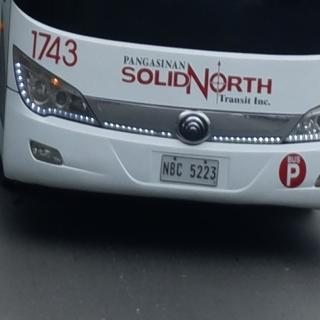license: (162, 156, 220, 185)
